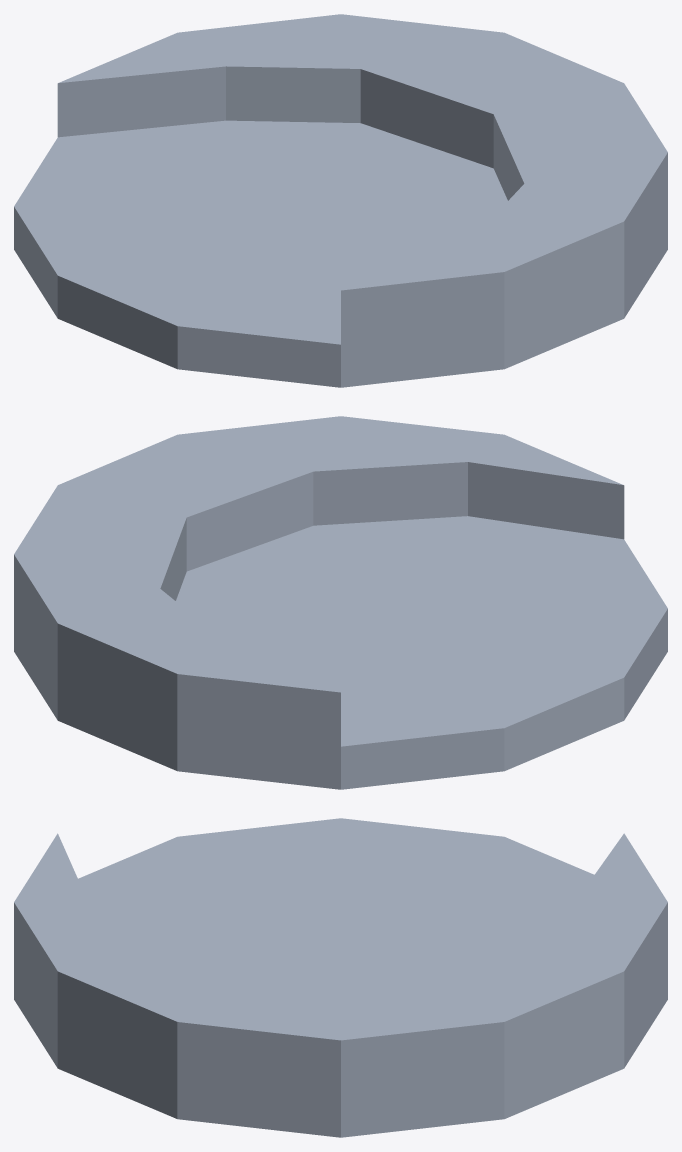
Rendered from Moon Crescent.fbx.
3 views of the same model, one above another, from view 1: azimuth 30°, elevation 25°; view 2: azimuth 150°, elevation 25°; view 3: azimuth 270°, elevation 25° (orthographic).
Visible parts, largest first — view 1: Moon Crescent; view 2: Moon Crescent; view 3: Moon Crescent.
Part boxes in pixels (<box>): Moon Crescent: <box>14,14,667,387</box>; Moon Crescent: <box>14,416,667,789</box>; Moon Crescent: <box>14,818,667,1137</box>.
Size of the model in its own units: 31.33 by 5.14 by 31.33.
